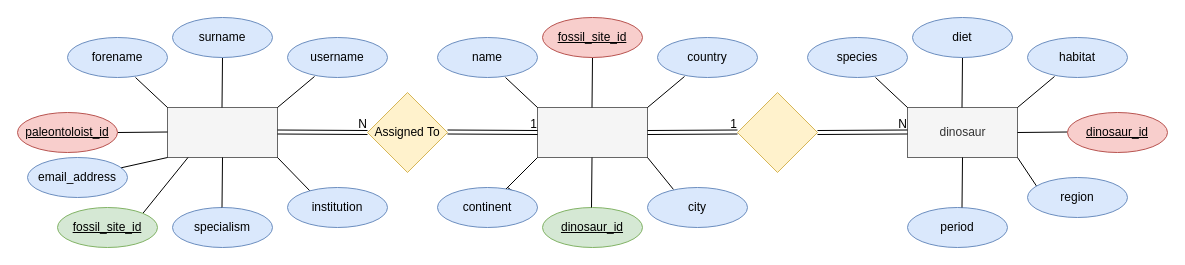
The diagram is 1185 pixels wide and 265 high, and some of its shapes have lost their labels. Here are the shapes that lost their labels. From the top down, the centre of each, then its label:
At pixel 222 132: "paleontologist".
At pixel 592 132: "fossil_site".
At pixel 777 132: "Contains".
